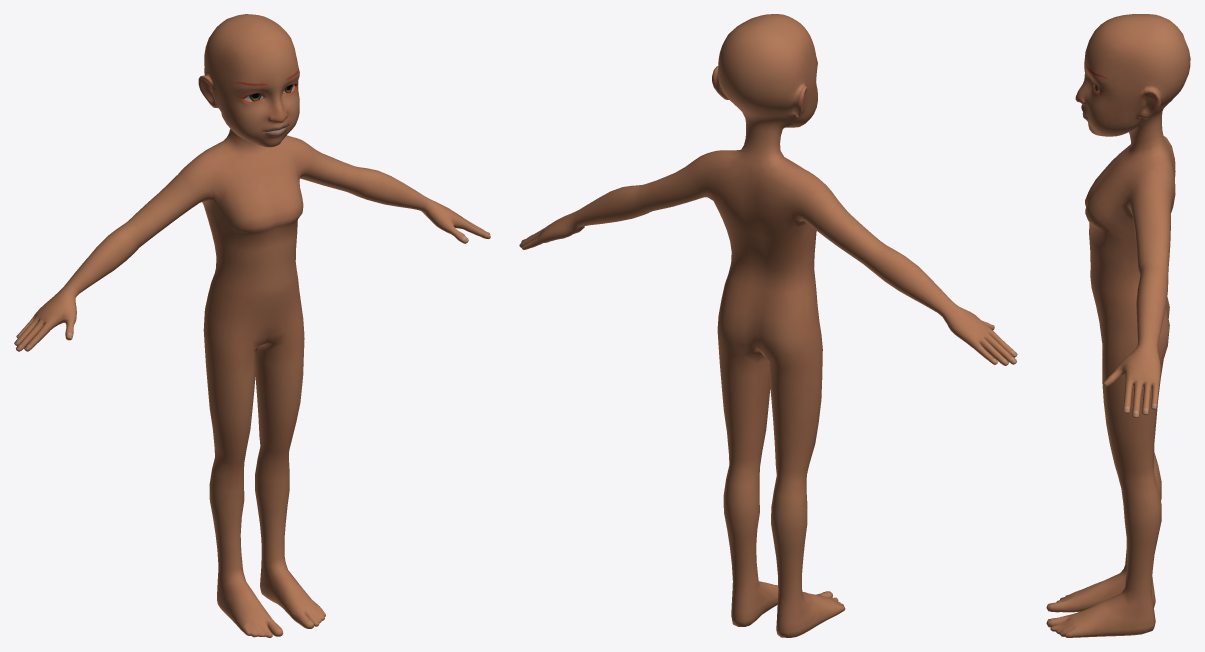
The model's file is frame_0020.glb.
The picture shows the model from 3 angles, left to right: view 1: azimuth 30°, elevation 25°; view 2: azimuth 150°, elevation 25°; view 3: azimuth 270°, elevation 25°; orthographic projection. The views are drawn at different scales.
Visible parts, largest first — view 1: frame_0020_head_geo; view 2: frame_0020_head_geo; view 3: frame_0020_head_geo.
Boxes of the visible parts, x1,y1,x2,y2 form: frame_0020_head_geo: [14, 14, 490, 637]; frame_0020_head_geo: [519, 14, 1017, 637]; frame_0020_head_geo: [1046, 14, 1190, 637].
Size of the model in its own units: 1.28 by 1.5 by 0.3253.
3 materials, 3 textured.
